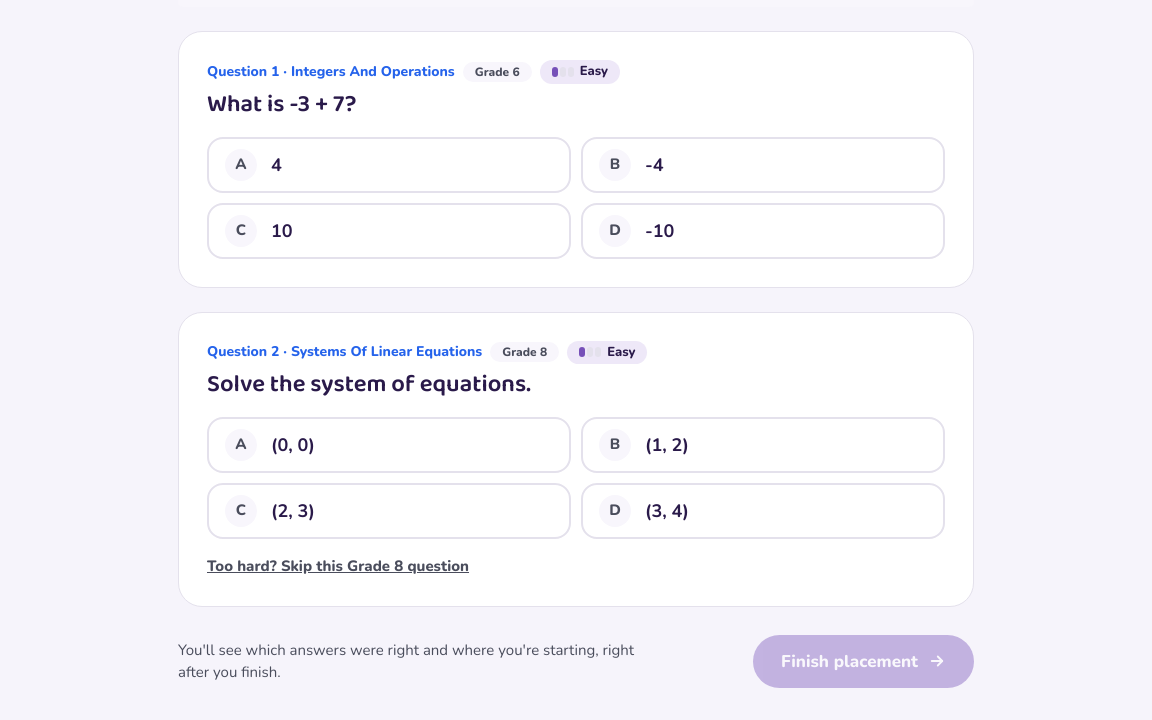
it: PlacementFlow skip button › swaps in the replacement question when skip returns one
(page scrolled)
Expected: the heading "Solve the system of equations." is shown, [207,365,531,404]
Click the button "Too hard? Skip this Grade 8 question".
click(338, 566)  # box [207,555,469,578]
(page scrolled)
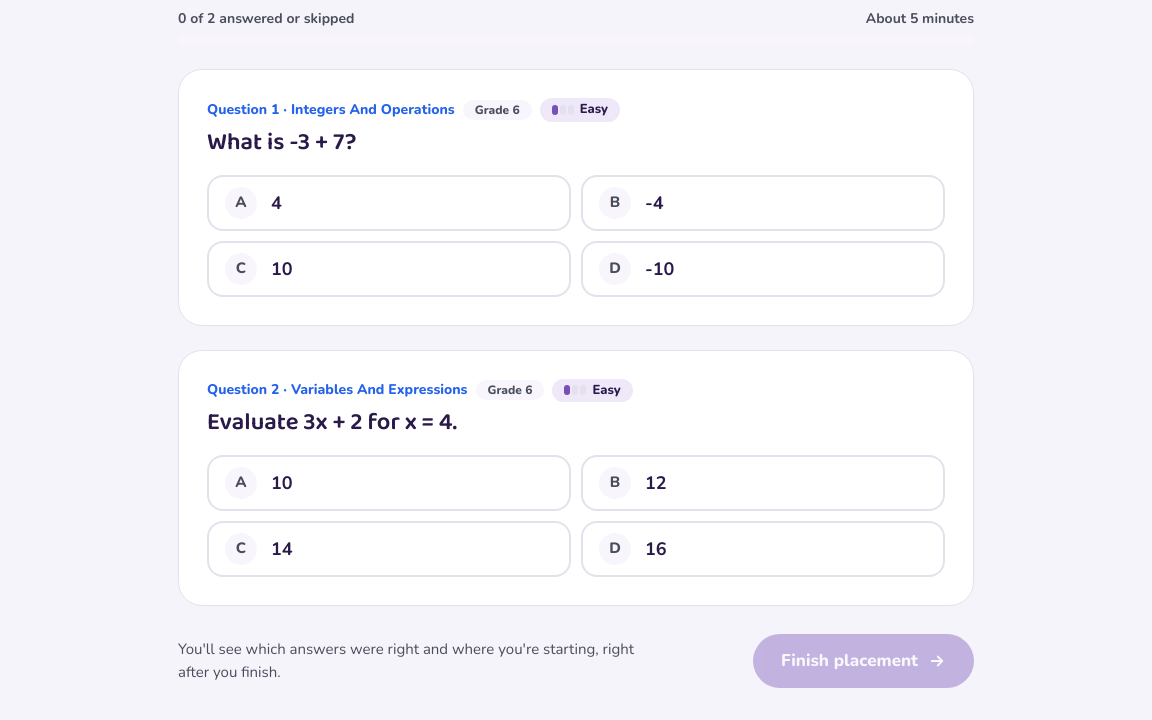
Now the heading "Evaluate 3x + 2 for x = 4." is shown, box [207,403,457,442]
Now the heading "Solve the system of equations." is gone
